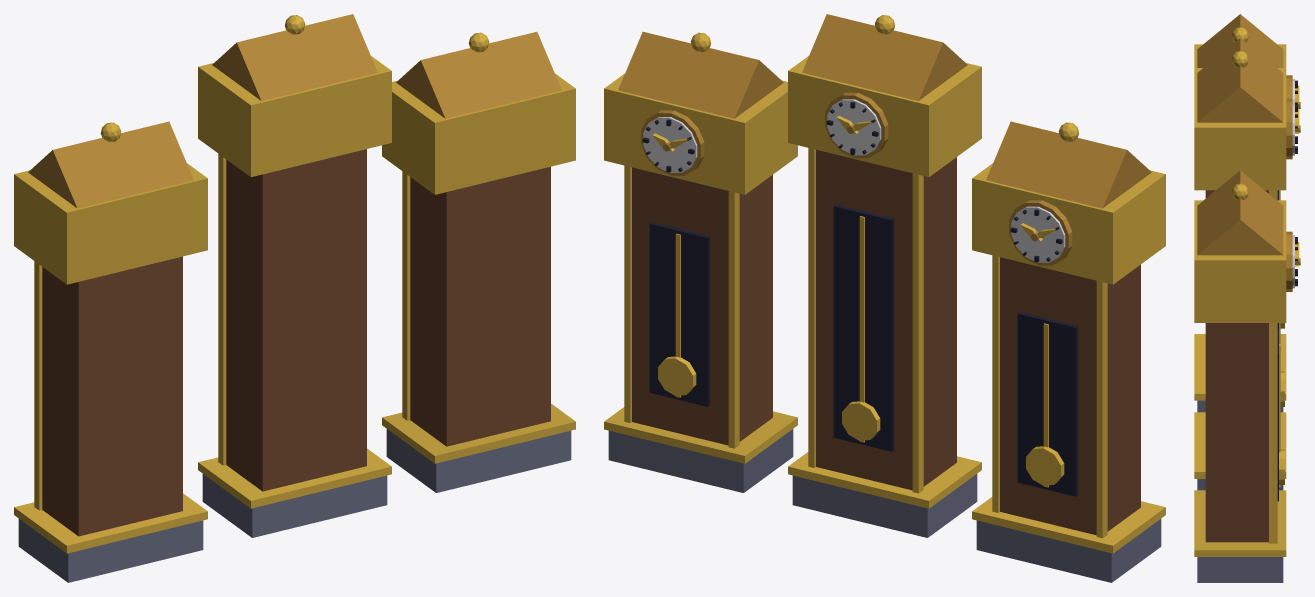
File: Decor_ClockTower_GrandfatherClocks.fbx
3 renders of one model, left to right at view 1: azimuth 30°, elevation 25°; view 2: azimuth 150°, elevation 25°; view 3: azimuth 270°, elevation 25°, orthographic. The views are drawn at different scales.
Parts seen in each view (by area): view 1: GrandfatherClocks_Body; view 2: GrandfatherClocks_Body; view 3: GrandfatherClocks_Body.
Part boxes in pixels (<box>): GrandfatherClocks_Body: <box>14,14,575,582</box>; GrandfatherClocks_Body: <box>604,14,1165,582</box>; GrandfatherClocks_Body: <box>1194,14,1300,582</box>.
Size of the model in its own units: 16.6 by 15.2 by 3.45.
